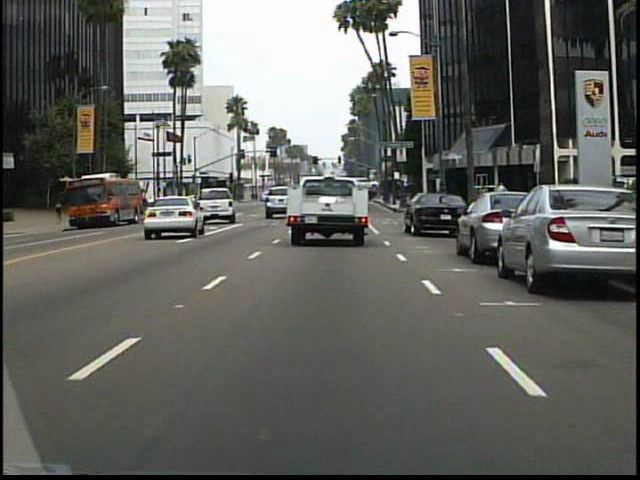person: (493, 179, 511, 219), (55, 194, 69, 225)
